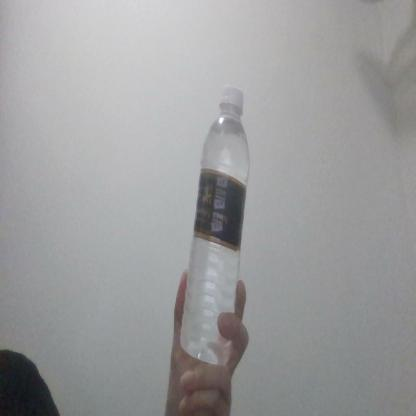plastic_bottles: (179, 84, 251, 368)
